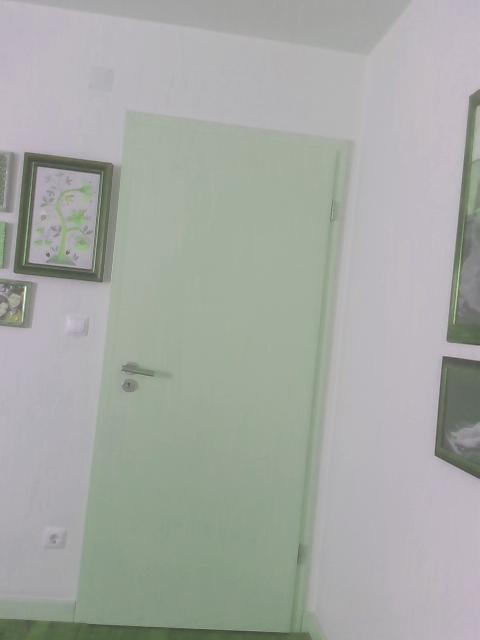closed_door: (72, 108, 355, 639)
